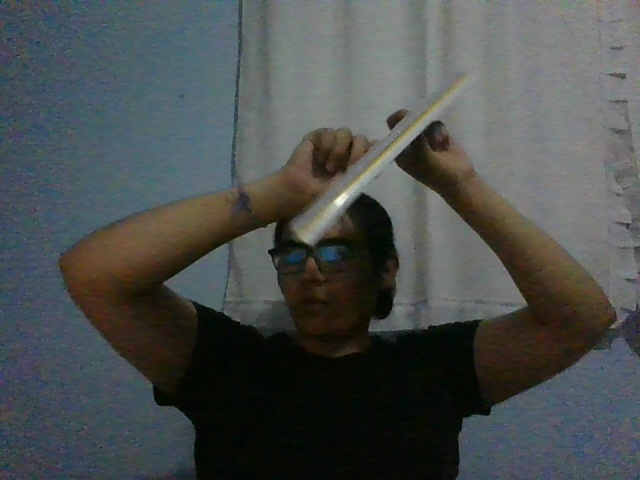regla: (288, 70, 469, 247)
